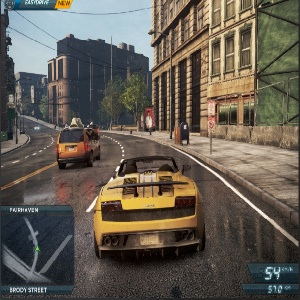ad: (144, 107, 155, 134)
building: (152, 1, 300, 93), (53, 35, 150, 119)
mailbox: (169, 118, 191, 148)
road sign: (203, 97, 220, 159)
tree: (122, 74, 150, 126), (102, 76, 127, 128), (38, 94, 51, 121)
vehicle: (53, 117, 103, 166), (87, 121, 102, 135), (31, 122, 42, 132)
